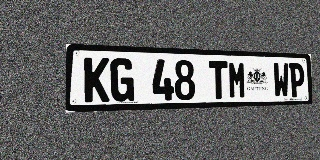4: (152, 59, 174, 101)
8: (174, 60, 195, 100)
G: (110, 58, 134, 102)
K: (84, 57, 109, 102)
M: (228, 61, 246, 99)
P: (289, 63, 305, 97)
T: (209, 61, 228, 99)
W: (273, 62, 289, 98)
